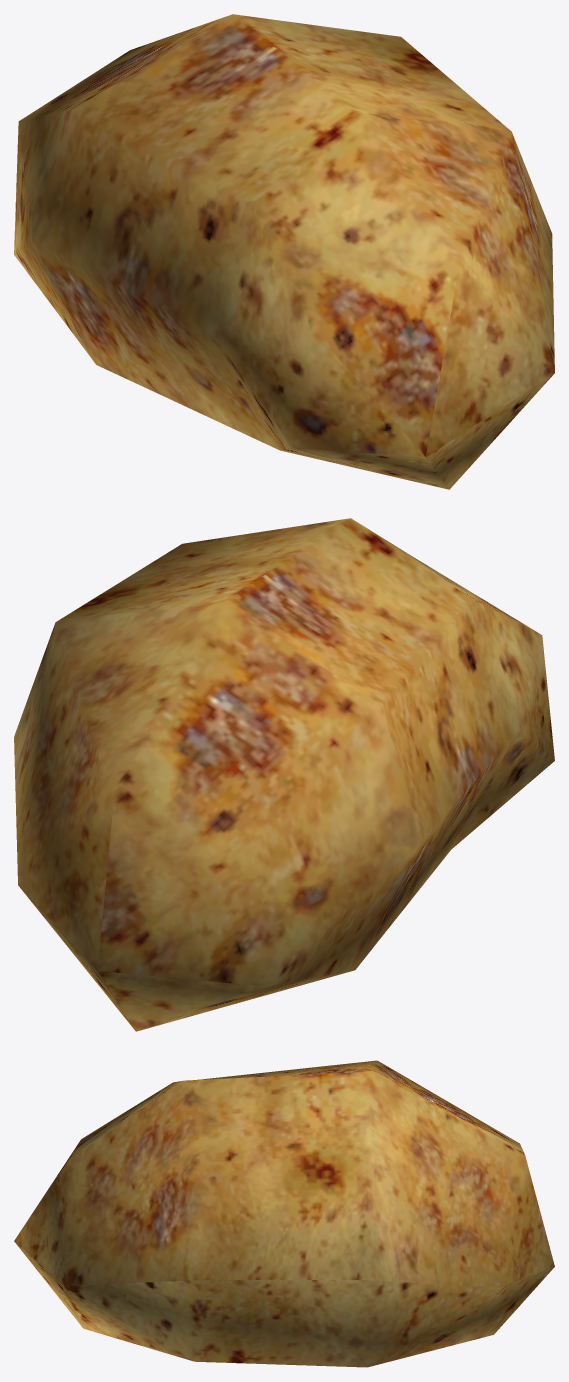
The model's file is potato_large.dae.
The picture shows the model from 3 angles, top to bottom: view 1: azimuth 30°, elevation 25°; view 2: azimuth 150°, elevation 25°; view 3: azimuth 270°, elevation 25°; orthographic projection. The views are drawn at different scales.
Parts seen in each view (by area): view 1: potato_large; view 2: potato_large; view 3: potato_large.
Part boxes in pixels (<box>): potato_large: <box>14,14,554,489</box>; potato_large: <box>14,518,554,1031</box>; potato_large: <box>14,1060,554,1367</box>.
Size of the model in its own units: 0.107 by 0.0927 by 0.1692.
